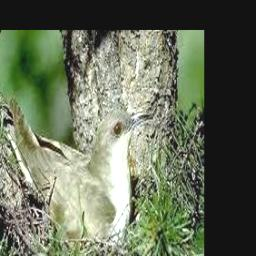Cuckoo: (11, 96, 154, 245)
